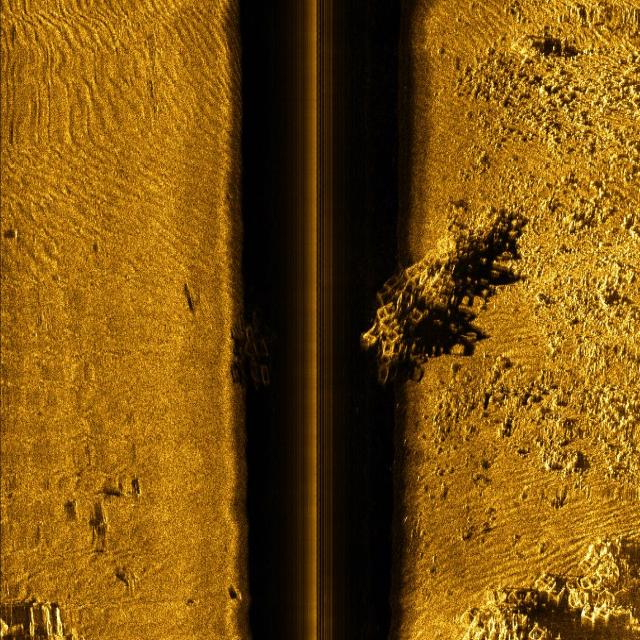artificial reef: (359, 201, 536, 396), (466, 512, 620, 640), (224, 291, 296, 408)
